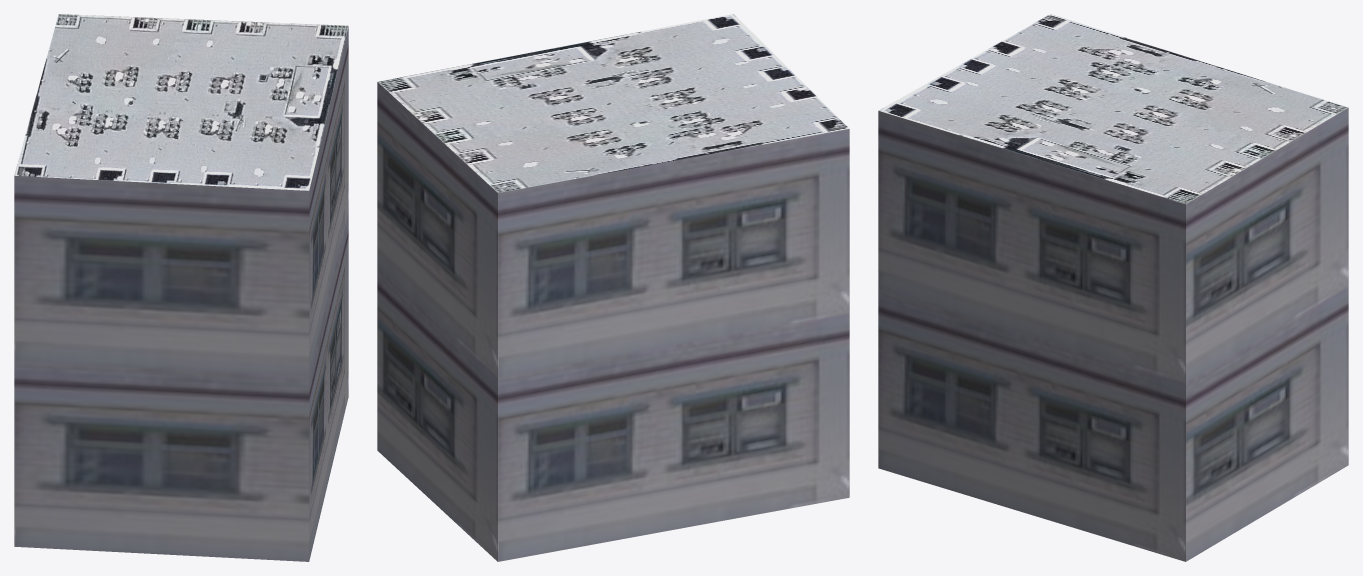
The model's file is ResTex__307.fbx.
3 views of the same model, side by side, from view 1: azimuth 30°, elevation 25°; view 2: azimuth 150°, elevation 25°; view 3: azimuth 270°, elevation 25° (orthographic). The views are drawn at different scales.
Visible parts, largest first — view 1: CityEngineMaterial_1_m, CityEngineMaterial_2_m; view 2: CityEngineMaterial_1_m, CityEngineMaterial_2_m; view 3: CityEngineMaterial_1_m, CityEngineMaterial_2_m.
Boxes of the visible parts, box(x1,y1,x2,y2) form: CityEngineMaterial_1_m: box(14, 27, 348, 561); CityEngineMaterial_2_m: box(14, 14, 348, 190); CityEngineMaterial_1_m: box(377, 82, 849, 561); CityEngineMaterial_2_m: box(377, 14, 849, 192); CityEngineMaterial_1_m: box(878, 108, 1348, 561); CityEngineMaterial_2_m: box(878, 14, 1348, 204).
Bounding box in the file's own units: 6.85 × 6 × 7.15.
2 materials, 2 textured.
